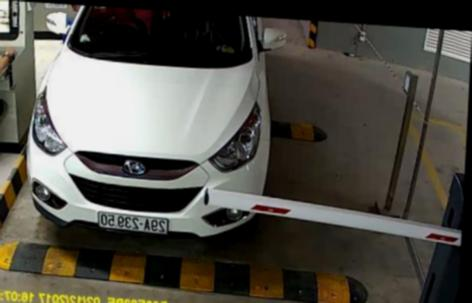License_Plate: (96, 207, 173, 236)
